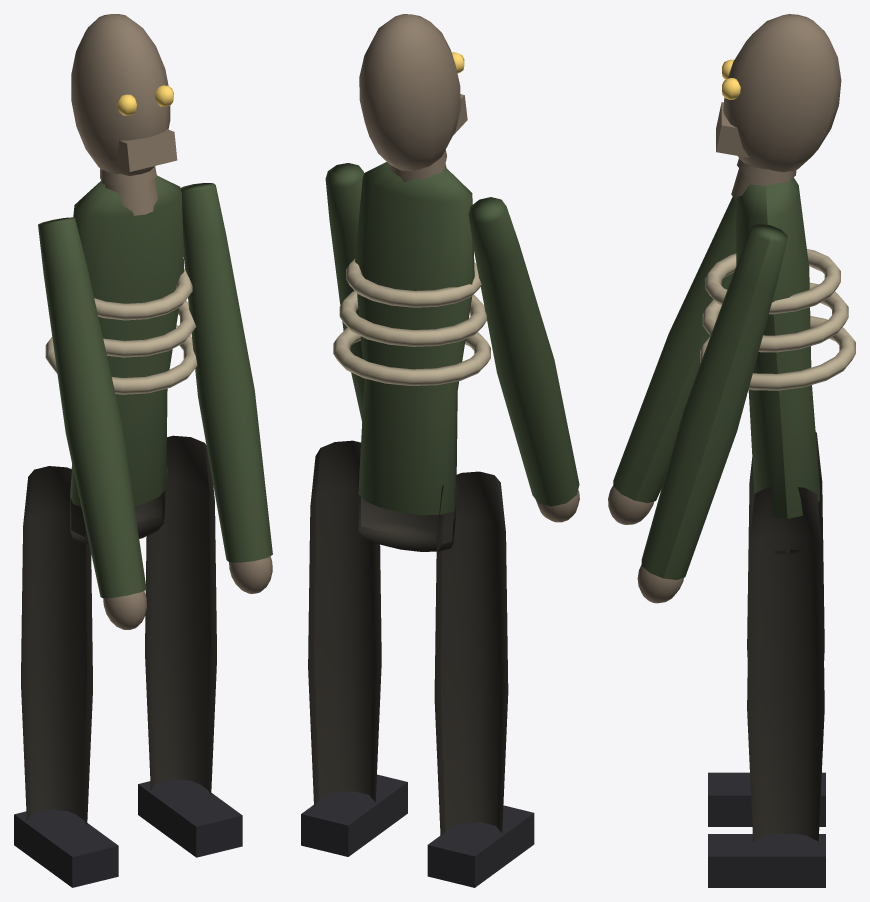
The model's file is husk_screamer.glb.
3 views of the same model, side by side, from view 1: azimuth 30°, elevation 25°; view 2: azimuth 150°, elevation 25°; view 3: azimuth 270°, elevation 25° (orthographic). The views are drawn at different scales.
Parts seen in each view (by area): view 1: husk_screamer; view 2: husk_screamer; view 3: husk_screamer.
Boxes of the visible parts, x1,y1,x2,y2 form: husk_screamer: (14, 14, 272, 887); husk_screamer: (301, 14, 579, 887); husk_screamer: (608, 14, 855, 887).
Size of what is drawn, in the model's own units: 0.5268 by 2.17 by 0.5874.
